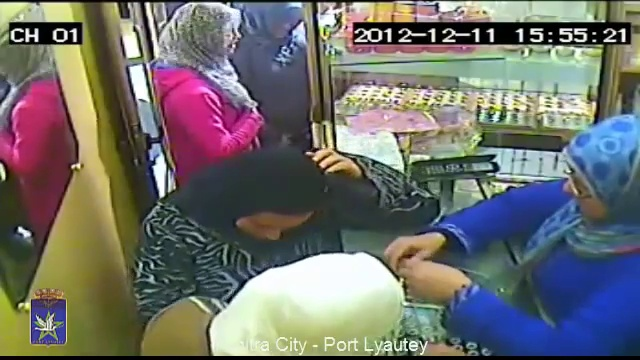face: (244, 199, 310, 245), (562, 157, 609, 220)
